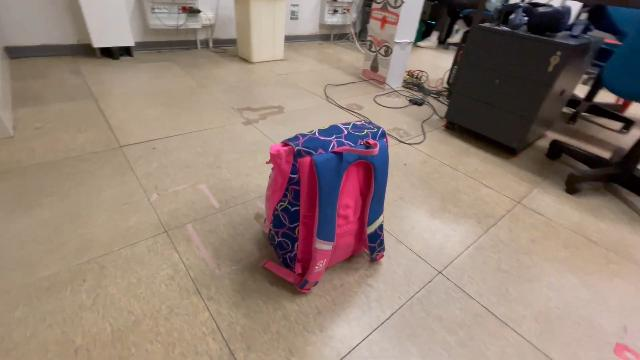Backpack: (253, 115, 394, 299)
